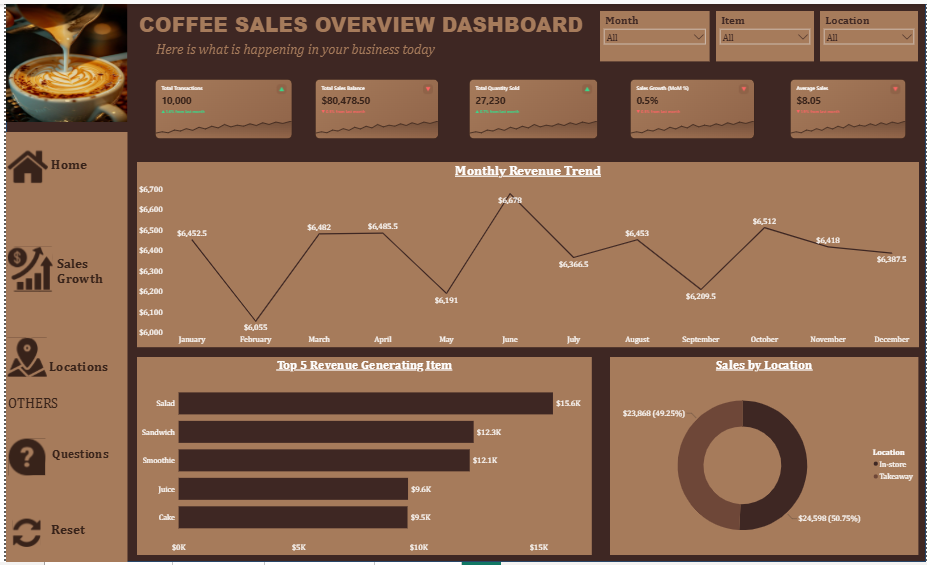

This screenshot's page, from the dashboard's own definition file:
{"tool":"powerbi","page":{"name":"Overview","canvas":[2300,1400],"ordinal":1},"visuals":[{"type":"shape","box":[0,0,2300,1400],"z":0},{"type":"shape","box":[0,324.1,303.7,1075.9],"z":1000},{"type":"image","box":[0,0,303,300],"z":2000},{"type":"textbox","title":"COFFEE SALES OVERVIEW DASHBOARD","box":[327.3,21.2,1157.6,75.8],"z":3000},{"type":"textbox","title":"Here is what is happening in your business today","box":[369.7,97,893.9,51.5],"z":4000},{"type":"htmlContent443BE3AD55E043BF878BED274D3A6855","fields":{"content":["HTML DAX.HTML Total Transactions"]},"box":[368.4,186.8,352.6,171.1],"z":5000},{"type":"htmlContent443BE3AD55E043BF878BED274D3A6855","fields":{"content":["HTML DAX.HTML Total Quantity Sold"]},"box":[1152.6,186.8,331.6,171.1],"z":6000},{"type":"htmlContent443BE3AD55E043BF878BED274D3A6855","fields":{"content":["HTML DAX.HTML Sales Growth"]},"box":[1555.3,186.8,321.1,168.4],"z":7000},{"type":"htmlContent443BE3AD55E043BF878BED274D3A6855","fields":{"content":["HTML DAX.HTML Average Sales"]},"box":[1955.3,186.8,300,168.4],"z":8000},{"type":"lineChart","title":"Monthly Revenue Trend","fields":{"Category":["Date Table.Month"],"Y":["DAX MEASURE.Total Sales"]},"box":[326.3,400,1955.3,463.2],"z":9000},{"type":"barChart","title":"Top 5 Revenue Generating Item","fields":{"Category":["dirty_cafe_sales (1).Item"],"Y":["DAX MEASURE.Total Sales"]},"box":[326.3,886.8,1136.8,494.7],"z":10000},{"type":"donutChart","title":"Sales by Location","fields":{"Category":["dirty_cafe_sales (1).Location"],"Y":["DAX MEASURE.Total Sales"]},"box":[1510.5,886.8,771.1,494.7],"z":11000},{"type":"actionButton","box":[0,357.6,284.8,109.1],"z":12000},{"type":"actionButton","box":[0,607.9,303,121.2],"z":13000},{"type":"actionButton","box":[0,834.2,303,106.1],"z":14000},{"type":"actionButton","box":[2.6,1086.8,281.8,100],"z":15000},{"type":"actionButton","box":[13.2,1286.8,281.8,78.8],"z":16000},{"type":"slicer","fields":{"Values":["Date Table.Month"]},"box":[1483.9,22.6,274.2,125.8],"z":17000},{"type":"slicer","fields":{"Values":["dirty_cafe_sales (1).Item"]},"box":[1774.2,22.6,245.2,125.8],"z":18000},{"type":"slicer","fields":{"Values":["dirty_cafe_sales (1).Location"]},"box":[2035.5,22.6,245.2,125.8],"z":19000},{"type":"textbox","title":"OTHERS","box":[0,981.6,151.5,42.4],"z":20000},{"type":"textbox","title":"Reset","box":[107.9,1297.4,175.8,57.6],"z":21000},{"type":"textbox","title":"Questions","box":[110.5,1110.5,166.7,54.5],"z":22000},{"type":"textbox","title":"Home","box":[107.1,385.7,169,45.2],"z":23000},{"type":"textbox","title":"Sales Growth","box":[123.7,631.6,169.7,97],"z":24000},{"type":"textbox","title":"Locations","box":[102.6,889.5,187.9,51.5],"z":25000},{"type":"htmlContent443BE3AD55E043BF878BED274D3A6855","fields":{"content":["HTML DAX.HTML Total Saless"]},"box":[767.1,187.1,318.6,171.4],"z":26000}]}

Visuals, with their boxes in screenshot pixels (x1, y1, x2, y2), scaled from the page's 2300x1400 canvas onto the 927x565 screenshot:
shape: select_region(0, 0, 926, 564)
shape: select_region(0, 131, 122, 564)
image: select_region(0, 0, 122, 121)
"COFFEE SALES OVERVIEW DASHBOARD" textbox: select_region(132, 9, 598, 39)
"Here is what is happening in your business today" textbox: select_region(149, 39, 509, 60)
htmlContent443BE3AD55E043BF878BED274D3A6855 - HTML DAX.HTML Total Transactions: select_region(148, 75, 291, 144)
htmlContent443BE3AD55E043BF878BED274D3A6855 - HTML DAX.HTML Total Quantity Sold: select_region(465, 75, 598, 144)
htmlContent443BE3AD55E043BF878BED274D3A6855 - HTML DAX.HTML Sales Growth: select_region(627, 75, 756, 143)
htmlContent443BE3AD55E043BF878BED274D3A6855 - HTML DAX.HTML Average Sales: select_region(788, 75, 909, 143)
"Monthly Revenue Trend" lineChart: select_region(132, 161, 920, 348)
"Top 5 Revenue Generating Item" barChart: select_region(132, 358, 590, 558)
"Sales by Location" donutChart: select_region(609, 358, 920, 558)
actionButton: select_region(0, 144, 115, 188)
actionButton: select_region(0, 245, 122, 294)
actionButton: select_region(0, 337, 122, 379)
actionButton: select_region(1, 439, 115, 479)
actionButton: select_region(5, 519, 119, 551)
slicer - Date Table.Month: select_region(598, 9, 709, 60)
slicer - dirty_cafe_sales (1).Item: select_region(715, 9, 814, 60)
slicer - dirty_cafe_sales (1).Location: select_region(820, 9, 919, 60)
"OTHERS" textbox: select_region(0, 396, 61, 413)
"Reset" textbox: select_region(43, 524, 114, 547)
"Questions" textbox: select_region(45, 448, 112, 470)
"Home" textbox: select_region(43, 156, 111, 174)
"Sales Growth" textbox: select_region(50, 255, 118, 294)
"Locations" textbox: select_region(41, 359, 117, 380)
htmlContent443BE3AD55E043BF878BED274D3A6855 - HTML DAX.HTML Total Saless: select_region(309, 76, 438, 145)
